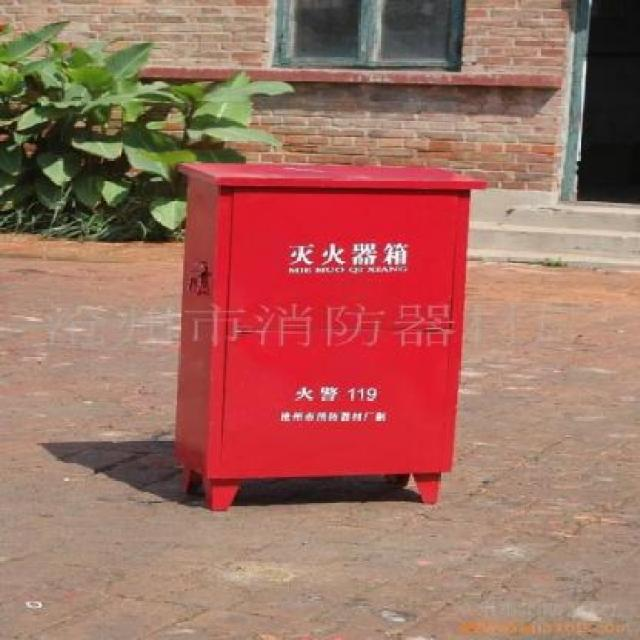firehydrant: (166, 155, 496, 518)
